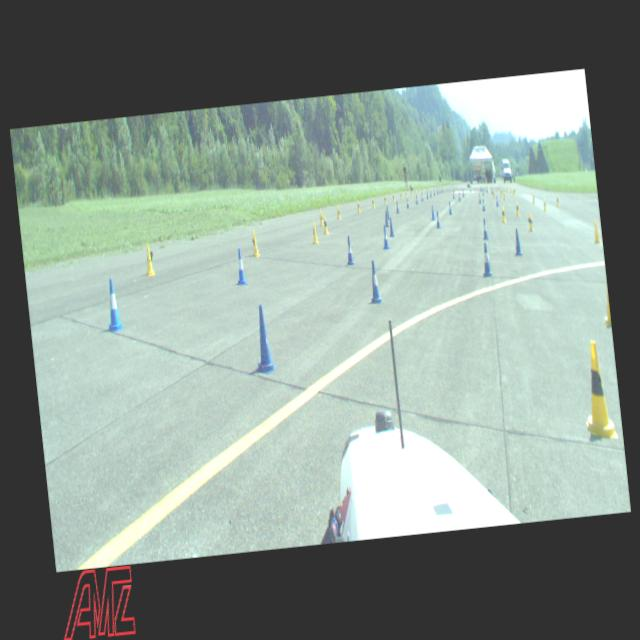blue_cone: (249, 304, 277, 374), (104, 277, 124, 331), (367, 260, 383, 304), (233, 247, 248, 285), (479, 242, 492, 278), (344, 234, 355, 265), (512, 228, 522, 256), (380, 224, 390, 249), (481, 218, 489, 240), (387, 217, 394, 237), (434, 210, 440, 228), (383, 209, 389, 227), (430, 204, 436, 220), (480, 199, 486, 211), (386, 204, 390, 220), (448, 201, 452, 214), (395, 200, 399, 213), (405, 196, 409, 208), (494, 196, 498, 207), (415, 194, 418, 203), (481, 187, 484, 196), (420, 192, 423, 200), (432, 188, 435, 196), (429, 190, 432, 198), (478, 192, 480, 204), (490, 186, 493, 194), (435, 188, 438, 195), (479, 185, 482, 192), (462, 188, 464, 198), (452, 190, 454, 198), (458, 192, 460, 200), (426, 190, 428, 198), (438, 186, 440, 194), (486, 185, 488, 193), (441, 186, 443, 193)
yellow_cone: (577, 338, 618, 442), (600, 282, 611, 328), (143, 242, 155, 276), (250, 228, 260, 256), (592, 218, 600, 242), (310, 221, 318, 244), (526, 210, 534, 232), (322, 214, 329, 234), (500, 205, 506, 222), (318, 210, 324, 227), (514, 200, 520, 216), (356, 198, 361, 214), (336, 204, 341, 219), (555, 193, 560, 207), (542, 198, 546, 212), (371, 196, 375, 208), (502, 190, 506, 201), (508, 186, 512, 193), (499, 188, 502, 197), (404, 190, 407, 198), (532, 192, 534, 204), (416, 186, 419, 194), (511, 188, 514, 195), (409, 189, 412, 196), (413, 188, 416, 195), (421, 185, 424, 192), (384, 194, 386, 204), (400, 190, 402, 200), (392, 192, 394, 202), (492, 188, 494, 198), (514, 186, 516, 194), (506, 185, 508, 192), (427, 185, 429, 192), (496, 185, 498, 192)
